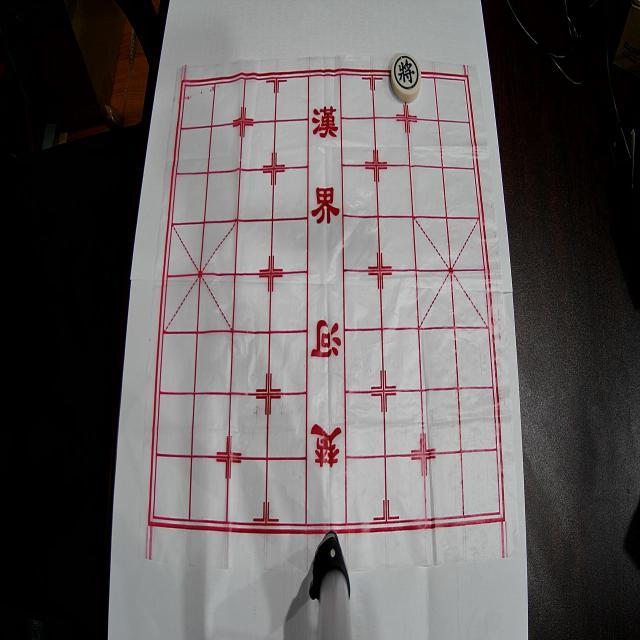black-general: (391, 53, 421, 102)
